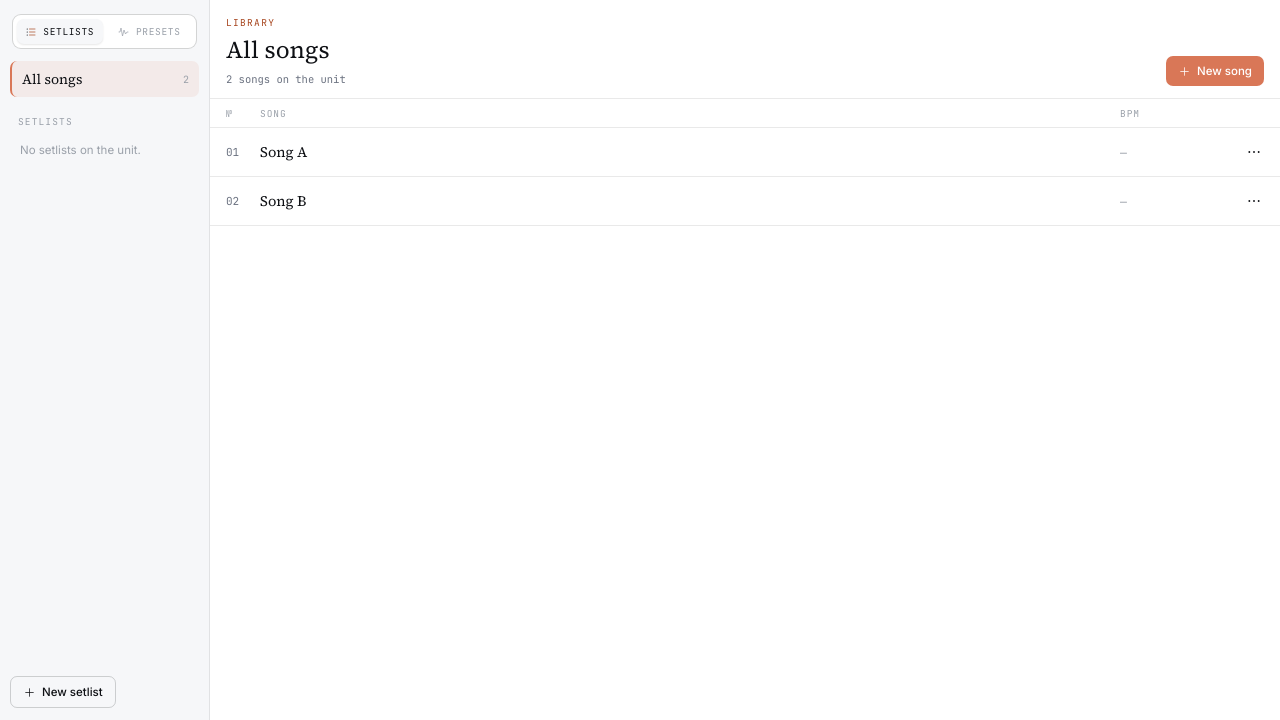
Test: SongsView — Presets axis › a preset used by no song shows the empty state
Expected: the button "New song" is shown, [1166,56,1264,86]
Step 1. Click the radio button labelled "Presets" → (149, 32), box [106,19,192,44]
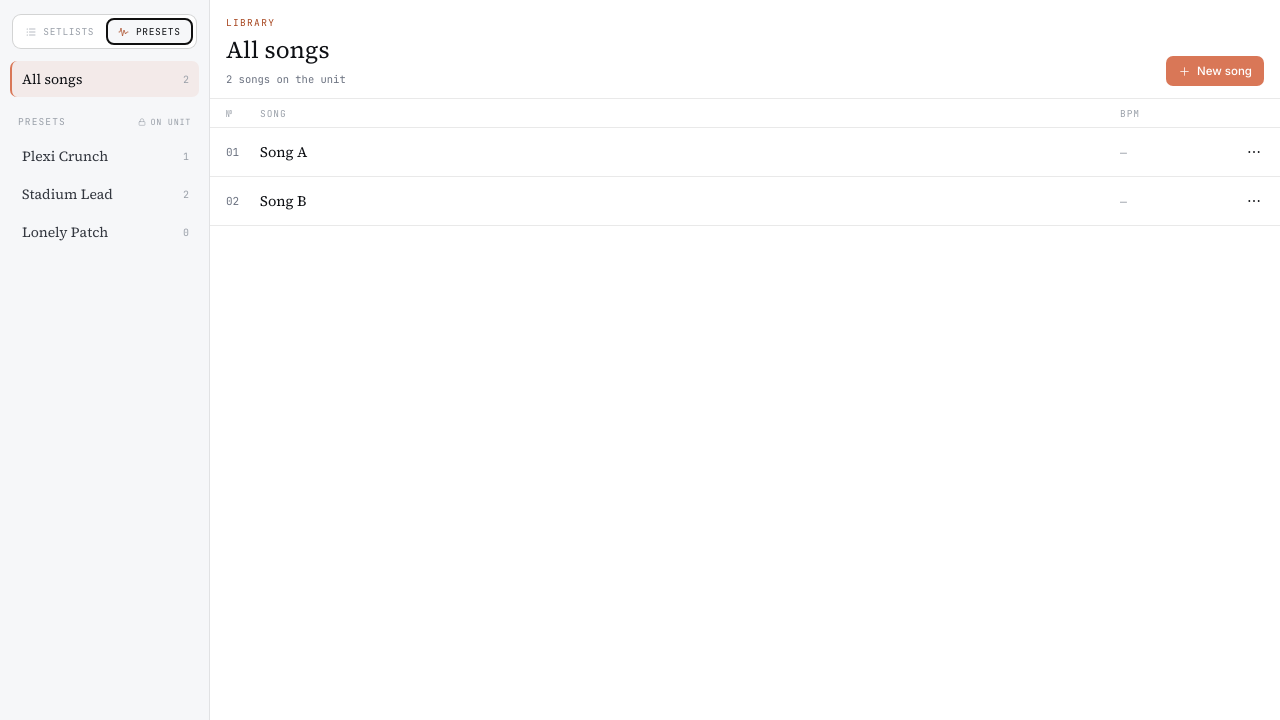
Step 2. Click the text "Lonely Patch" → (65, 232), box [22,222,108,242]
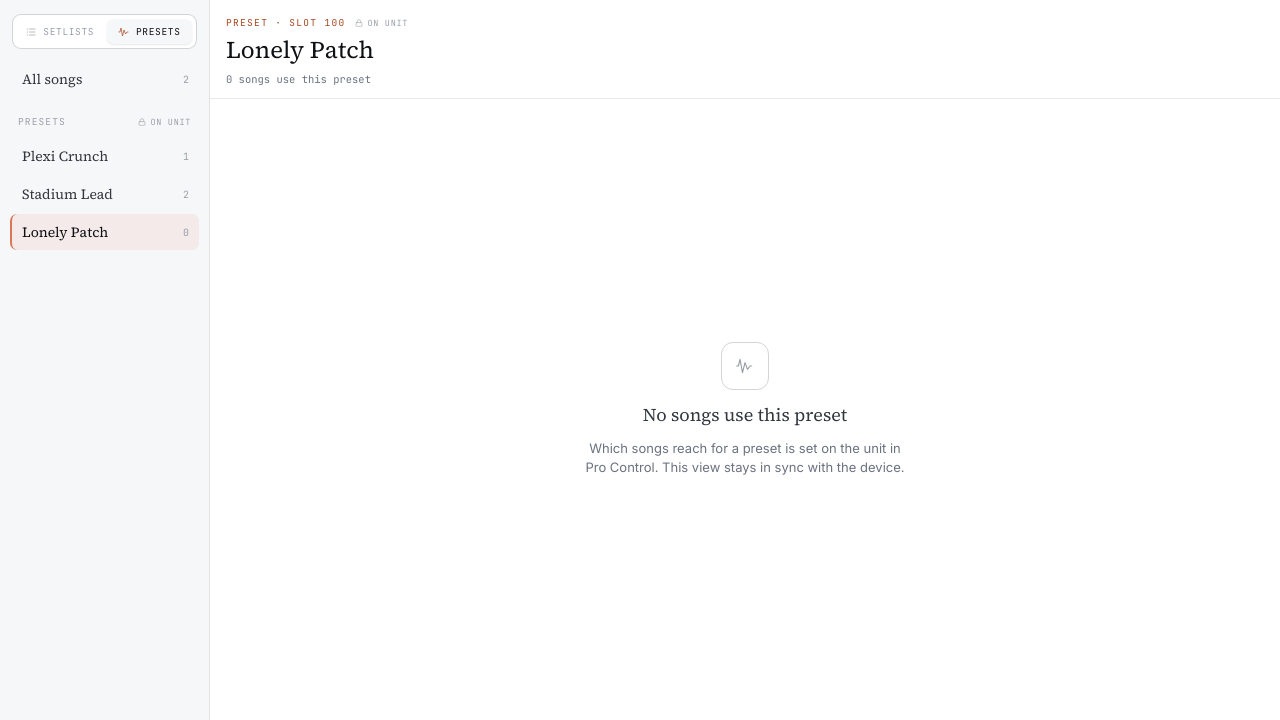
Expected: the text "No songs use this preset" is shown, [643,402,847,426]
